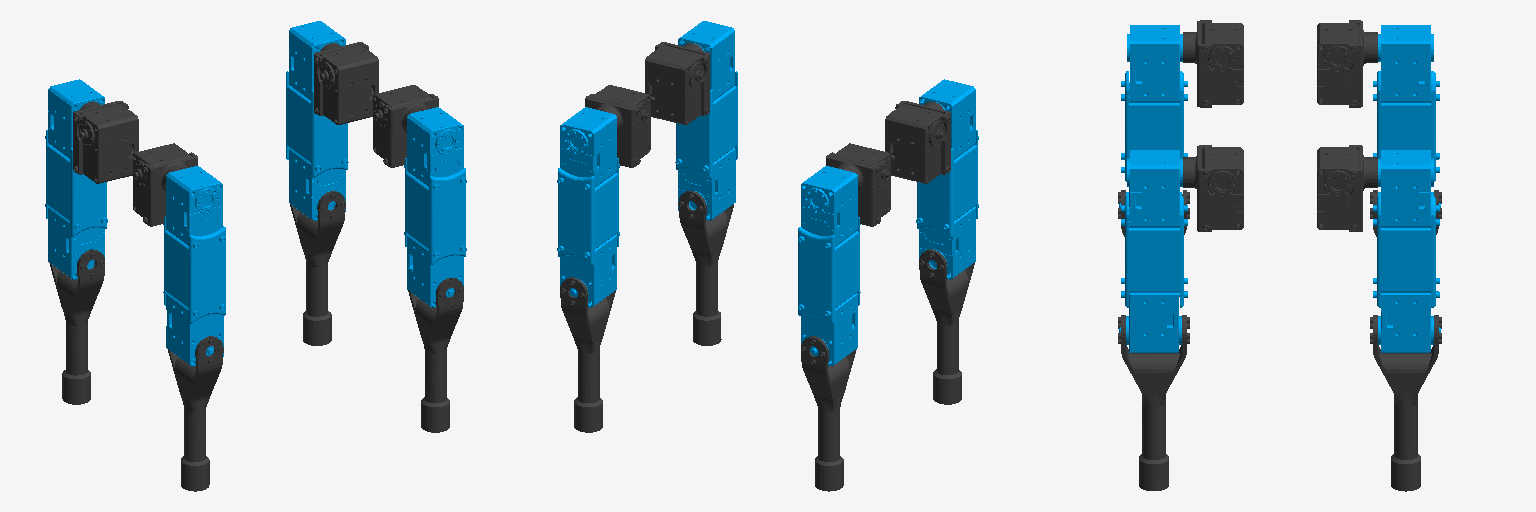
The robot description file, URDF, robot "spot_micro_urdf_v3_rotated_base":
<?xml version="1.0" encoding="utf-8"?>
<!-- This URDF was automatically created by SolidWorks to URDF Exporter! Originally created by [author] ([email redacted]) 
     Commit Version:   Build Version: 1.5.7479.33669
     For more information, please see http://wiki.ros.org/sw_urdf_exporter -->
<robot
  name="spot_micro_urdf_v3_rotated_base">
    <material name="blue">
    <color rgba="0. 0.7 1 1"/>
  </material>
  <material name="black">
    <color rgba="0.1 0.1 0.1 1"/>
  </material>
  <material name="grey">
    <color rgba="0.3 0.3 0.3 1"/>
  </material>
  <link
    name="base_link">
    <inertial>
      <origin
        xyz="0.016622 -0.00072045 0.0004418"
        rpy="0 0 0" />
      <mass
        value="0.9248" />
      <inertia
        ixx="0.00099241"
        ixy="-7.2183E-06"
        ixz="5.2376E-06"
        iyy="0.0011738"
        iyz="-6.544E-06"
        izz="0.00063265" />
    </inertial>
    <visual>
      <origin
        xyz="0 0 0"
        rpy="0 0 0" />
      <geometry>
        <mesh
          filename="package://spot_micro_urdf_v3_rotated_base/meshes/base_link.STL" />
      </geometry>
      <material
        name="blue">
      </material>
    </visual>
    <collision>
      <origin
        xyz="0 0 0"
        rpy="0 0 0" />
      <geometry>
        <mesh
          filename="package://spot_micro_urdf_v3_rotated_base/meshes/base_link.STL" />
      </geometry>
    </collision>
  </link>
  <link
    name="FL_hip_link">
    <inertial>
      <origin
        xyz="-0.023049 -0.011251 0.0030217"
        rpy="0 0 0" />
      <mass
        value="0.10229" />
      <inertia
        ixx="2.3388E-05"
        ixy="-3.7973E-08"
        ixz="-4.5621E-13"
        iyy="1.6266E-05"
        iyz="-3.6502E-07"
        izz="2.8445E-05" />
    </inertial>
    <visual>
      <origin
        xyz="0 0 0"
        rpy="0 0 0" />
      <geometry>
        <mesh
          filename="package://spot_micro_urdf_v3_rotated_base/meshes/FL_hip_link.STL" />
      </geometry>
      <material
        name="grey">
      </material>
    </visual>
    <collision>
      <origin
        xyz="0 0 0"
        rpy="0 0 0" />
      <geometry>
        <mesh
          filename="package://spot_micro_urdf_v3_rotated_base/meshes/FL_hip_link.STL" />
      </geometry>
    </collision>
  </link>
  <joint
    name="FL_hip_joint"
    type="revolute">
    <origin
      xyz="0.0766 0.039001 0.010875"
      rpy="1.5708 0 -3.1416" />
    <parent
      link="base_link" />
    <child
      link="FL_hip_link" />
    <axis
      xyz="-1 0 0" />
    <limit
      lower="-0.1745"
      upper="1.5708"
      effort="3"
      velocity="8" />
  </joint>
  <link
    name="FL_thigh_link">
    <inertial>
      <origin
        xyz="-0.0061957 -0.058673 0.023449"
        rpy="0 0 0" />
      <mass
        value="0.20833" />
      <inertia
        ixx="6.5328E-05"
        ixy="-2.5965E-06"
        ixz="7.6159E-09"
        iyy="4.1013E-05"
        iyz="7.2121E-08"
        izz="5.5965E-05" />
    </inertial>
    <visual>
      <origin
        xyz="0 0 0"
        rpy="0 0 0" />
      <geometry>
        <mesh
          filename="package://spot_micro_urdf_v3_rotated_base/meshes/FL_thigh_link.STL" />
      </geometry>
      <material
        name="blue">
      </material>
    </visual>
    <collision>
      <origin
        xyz="0 0 0"
        rpy="0 0 0" />
      <geometry>
        <mesh
          filename="package://spot_micro_urdf_v3_rotated_base/meshes/FL_thigh_link.STL" />
      </geometry>
    </collision>
  </link>
  <joint
    name="FL_thigh_joint"
    type="revolute">
    <origin
      xyz="-0.0234 0 0.0226"
      rpy="0 0 0.10521" />
    <parent
      link="FL_hip_link" />
    <child
      link="FL_thigh_link" />
    <axis
      xyz="0 0 1" />
    <limit
      lower="-1.5708"
      upper="1.5708"
      effort="3"
      velocity="8" />
  </joint>
  <link
    name="FL_calf_link">
    <inertial>
      <origin
        xyz="-0.0059573 -0.056415 0.023401"
        rpy="0 0 0" />
      <mass
        value="0.039633" />
      <inertia
        ixx="3.7201E-05"
        ixy="-3.5058E-06"
        ixz="-3.4162E-10"
        iyy="4.3723E-06"
        iyz="-3.0852E-09"
        izz="3.5395E-05" />
    </inertial>
    <visual>
      <origin
        xyz="0 0 0"
        rpy="0 0 0" />
      <geometry>
        <mesh
          filename="package://spot_micro_urdf_v3_rotated_base/meshes/FL_calf_link.STL" />
      </geometry>
      <material
        name="grey">
      </material>
    </visual>
    <collision>
      <origin
        xyz="0 0 0"
        rpy="0 0 0" />
      <geometry>
        <mesh
          filename="package://spot_micro_urdf_v3_rotated_base/meshes/FL_calf_link.STL" />
      </geometry>
    </collision>
  </link>
  <joint
    name="FL_calf_joint"
    type="revolute">
    <origin
      xyz="-0.012392 -0.11735 0"
      rpy="0 0 0" />
    <parent
      link="FL_thigh_link" />
    <child
      link="FL_calf_link" />
    <axis
      xyz="0 0 1" />
    <limit
      lower="-1.5708"
      upper="1.5708"
      effort="3"
      velocity="8" />
  </joint>
  <link
    name="RL_hip_link">
    <inertial>
      <origin
        xyz="0.022101 -0.011251 0.0030217"
        rpy="0 0 0" />
      <mass
        value="0.10229" />
      <inertia
        ixx="2.3388E-05"
        ixy="-3.7973E-08"
        ixz="-4.5621E-13"
        iyy="1.6266E-05"
        iyz="-3.6502E-07"
        izz="2.8445E-05" />
    </inertial>
    <visual>
      <origin
        xyz="0 0 0"
        rpy="0 0 0" />
      <geometry>
        <mesh
          filename="package://spot_micro_urdf_v3_rotated_base/meshes/RL_hip_link.STL" />
      </geometry>
      <material
        name="grey">
      </material>
    </visual>
    <collision>
      <origin
        xyz="0 0 0"
        rpy="0 0 0" />
      <geometry>
        <mesh
          filename="package://spot_micro_urdf_v3_rotated_base/meshes/RL_hip_link.STL" />
      </geometry>
    </collision>
  </link>
  <joint
    name="RL_hip_joint"
    type="revolute">
    <origin
      xyz="-0.07825 0.039001 0.010875"
      rpy="1.5708 0 -3.1416" />
    <parent
      link="base_link" />
    <child
      link="RL_hip_link" />
    <axis
      xyz="-1 0 0" />
    <limit
      lower="-0.1745"
      upper="1.5708"
      effort="3"
      velocity="8" />
  </joint>
  <link
    name="RL_thigh_link">
    <inertial>
      <origin
        xyz="-0.0061957 -0.058673 0.023449"
        rpy="0 0 0" />
      <mass
        value="0.20833" />
      <inertia
        ixx="6.5328E-05"
        ixy="-2.5965E-06"
        ixz="7.6159E-09"
        iyy="4.1013E-05"
        iyz="7.2121E-08"
        izz="5.5965E-05" />
    </inertial>
    <visual>
      <origin
        xyz="0 0 0"
        rpy="0 0 0" />
      <geometry>
        <mesh
          filename="package://spot_micro_urdf_v3_rotated_base/meshes/RL_thigh_link.STL" />
      </geometry>
      <material
        name="blue">
      </material>
    </visual>
    <collision>
      <origin
        xyz="0 0 0"
        rpy="0 0 0" />
      <geometry>
        <mesh
          filename="package://spot_micro_urdf_v3_rotated_base/meshes/RL_thigh_link.STL" />
      </geometry>
    </collision>
  </link>
  <joint
    name="RL_thigh_joint"
    type="revolute">
    <origin
      xyz="0.02175 0 0.0226"
      rpy="0 0 0.10521" />
    <parent
      link="RL_hip_link" />
    <child
      link="RL_thigh_link" />
    <axis
      xyz="0 0 1" />
    <limit
      lower="-1.5708"
      upper="1.5708"
      effort="3"
      velocity="8" />
  </joint>
  <link
    name="RL_calf_link">
    <inertial>
      <origin
        xyz="-0.0059573 -0.056415 0.023401"
        rpy="0 0 0" />
      <mass
        value="0.039633" />
      <inertia
        ixx="3.7201E-05"
        ixy="-3.5058E-06"
        ixz="-3.4162E-10"
        iyy="4.3723E-06"
        iyz="-3.0852E-09"
        izz="3.5395E-05" />
    </inertial>
    <visual>
      <origin
        xyz="0 0 0"
        rpy="0 0 0" />
      <geometry>
        <mesh
          filename="package://spot_micro_urdf_v3_rotated_base/meshes/RL_calf_link.STL" />
      </geometry>
      <material
        name="grey">
      </material>
    </visual>
    <collision>
      <origin
        xyz="0 0 0"
        rpy="0 0 0" />
      <geometry>
        <mesh
          filename="package://spot_micro_urdf_v3_rotated_base/meshes/RL_calf_link.STL" />
      </geometry>
    </collision>
  </link>
  <joint
    name="RL_calf_joint"
    type="revolute">
    <origin
      xyz="-0.012392 -0.11735 0"
      rpy="0 0 0" />
    <parent
      link="RL_thigh_link" />
    <child
      link="RL_calf_link" />
    <axis
      xyz="0 0 1" />
    <limit
      lower="-1.5708"
      upper="1.5708"
      effort="3"
      velocity="8" />
  </joint>
  <link
    name="RR_hip_link">
    <inertial>
      <origin
        xyz="-0.022101 -0.011263 0.0029782"
        rpy="0 0 0" />
      <mass
        value="0.10229" />
      <inertia
        ixx="2.3388E-05"
        ixy="3.7964E-08"
        ixz="1.4601E-10"
        iyy="1.6269E-05"
        iyz="-4.12E-07"
        izz="2.8442E-05" />
    </inertial>
    <visual>
      <origin
        xyz="0 0 0"
        rpy="0 0 0" />
      <geometry>
        <mesh
          filename="package://spot_micro_urdf_v3_rotated_base/meshes/RR_hip_link.STL" />
      </geometry>
      <material
        name="grey">
      </material>
    </visual>
    <collision>
      <origin
        xyz="0 0 0"
        rpy="0 0 0" />
      <geometry>
        <mesh
          filename="package://spot_micro_urdf_v3_rotated_base/meshes/RR_hip_link.STL" />
      </geometry>
    </collision>
  </link>
  <joint
    name="RR_hip_joint"
    type="revolute">
    <origin
      xyz="-0.07825 -0.03901 0.010875"
      rpy="1.5669 0 0" />
    <parent
      link="base_link" />
    <child
      link="RR_hip_link" />
    <axis
      xyz="1 0 0" />
    <limit
      lower="-1.5708"
      upper="0.1745"
      effort="3"
      velocity="8" />
  </joint>
  <link
    name="RR_thigh_link">
    <inertial>
      <origin
        xyz="9.8993E-10 -0.05909 0.023473"
        rpy="0 0 0" />
      <mass
        value="0.20833" />
      <inertia
        ixx="6.5602E-05"
        ixy="3.9386E-13"
        ixz="-2.0136E-14"
        iyy="4.0739E-05"
        iyz="1.3777E-08"
        izz="5.5965E-05" />
    </inertial>
    <visual>
      <origin
        xyz="0 0 0"
        rpy="0 0 0" />
      <geometry>
        <mesh
          filename="package://spot_micro_urdf_v3_rotated_base/meshes/RR_thigh_link.STL" />
      </geometry>
      <material
        name="blue">
      </material>
    </visual>
    <collision>
      <origin
        xyz="0 0 0"
        rpy="0 0 0" />
      <geometry>
        <mesh
          filename="package://spot_micro_urdf_v3_rotated_base/meshes/RR_thigh_link.STL" />
      </geometry>
    </collision>
  </link>
  <joint
    name="RR_thigh_joint"
    type="revolute">
    <origin
      xyz="-0.02175 -8.6996E-05 0.022548"
      rpy="0 0 0" />
    <parent
      link="RR_hip_link" />
    <child
      link="RR_thigh_link" />
    <axis
      xyz="0 0.0038582 -0.99999" />
    <limit
      lower="-1.5708"
      upper="1.5708"
      effort="3"
      velocity="8" />
  </joint>
  <link
    name="RR_calf_link">
    <inertial>
      <origin
        xyz="-0.0059573 -0.056415 -0.02395"
        rpy="0 0 0" />
      <mass
        value="0.039633" />
      <inertia
        ixx="3.7201E-05"
        ixy="-3.5058E-06"
        ixz="-3.4162E-10"
        iyy="4.3723E-06"
        iyz="-3.0852E-09"
        izz="3.5395E-05" />
    </inertial>
    <visual>
      <origin
        xyz="0 0 0"
        rpy="0 0 0" />
      <geometry>
        <mesh
          filename="package://spot_micro_urdf_v3_rotated_base/meshes/RR_calf_link.STL" />
      </geometry>
      <material
        name="grey">
      </material>
    </visual>
    <collision>
      <origin
        xyz="0 0 0"
        rpy="0 0 0" />
      <geometry>
        <mesh
          filename="package://spot_micro_urdf_v3_rotated_base/meshes/RR_calf_link.STL" />
      </geometry>
    </collision>
  </link>
  <joint
    name="RR_calf_joint"
    type="revolute">
    <origin
      xyz="0 -0.118 -0.00045526"
      rpy="3.1378 -0.00040516 3.0364" />
    <parent
      link="RR_thigh_link" />
    <child
      link="RR_calf_link" />
    <axis
      xyz="0 0 1" />
    <limit
      lower="-1.5708"
      upper="1.5708"
      effort="3"
      velocity="8" />
  </joint>
  <link
    name="FR_hip_link">
    <inertial>
      <origin
        xyz="0.023049 -0.011263 0.0029782"
        rpy="0 0 0" />
      <mass
        value="0.10229" />
      <inertia
        ixx="2.3388E-05"
        ixy="3.7964E-08"
        ixz="1.4601E-10"
        iyy="1.6269E-05"
        iyz="-4.12E-07"
        izz="2.8442E-05" />
    </inertial>
    <visual>
      <origin
        xyz="0 0 0"
        rpy="0 0 0" />
      <geometry>
        <mesh
          filename="package://spot_micro_urdf_v3_rotated_base/meshes/FR_hip_link.STL" />
      </geometry>
      <material
        name="grey">
      </material>
    </visual>
    <collision>
      <origin
        xyz="0 0 0"
        rpy="0 0 0" />
      <geometry>
        <mesh
          filename="package://spot_micro_urdf_v3_rotated_base/meshes/FR_hip_link.STL" />
      </geometry>
    </collision>
  </link>
  <joint
    name="FR_hip_joint"
    type="revolute">
    <origin
      xyz="0.0766 -0.039021 0.010875"
      rpy="1.5669 0 0" />
    <parent
      link="base_link" />
    <child
      link="FR_hip_link" />
    <axis
      xyz="1 0 0" />
    <limit
      lower="-1.5708"
      upper="0.1745"
      effort="3"
      velocity="8" />
  </joint>
  <link
    name="FR_thigh_link">
    <inertial>
      <origin
        xyz="9.8993E-10 -0.05909 0.023473"
        rpy="0 0 0" />
      <mass
        value="0.20833" />
      <inertia
        ixx="6.5602E-05"
        ixy="3.9386E-13"
        ixz="-2.0136E-14"
        iyy="4.0739E-05"
        iyz="1.3777E-08"
        izz="5.5965E-05" />
    </inertial>
    <visual>
      <origin
        xyz="0 0 0"
        rpy="0 0 0" />
      <geometry>
        <mesh
          filename="package://spot_micro_urdf_v3_rotated_base/meshes/FR_thigh_link.STL" />
      </geometry>
      <material
        name="blue">
      </material>
    </visual>
    <collision>
      <origin
        xyz="0 0 0"
        rpy="0 0 0" />
      <geometry>
        <mesh
          filename="package://spot_micro_urdf_v3_rotated_base/meshes/FR_thigh_link.STL" />
      </geometry>
    </collision>
  </link>
  <joint
    name="FR_thigh_joint"
    type="revolute">
    <origin
      xyz="0.0234 -8.6996E-05 0.022548"
      rpy="0 0 0" />
    <parent
      link="FR_hip_link" />
    <child
      link="FR_thigh_link" />
    <axis
      xyz="0 0.0038582 -0.99999" />
    <limit
      lower="-1.5708"
      upper="1.5708"
      effort="3"
      velocity="8" />
  </joint>
  <link
    name="FR_calf_link">
    <inertial>
      <origin
        xyz="-0.0059573 -0.056415 -0.02395"
        rpy="0 0 0" />
      <mass
        value="0.039633" />
      <inertia
        ixx="3.7201E-05"
        ixy="-3.5058E-06"
        ixz="-3.4162E-10"
        iyy="4.3723E-06"
        iyz="-3.0852E-09"
        izz="3.5395E-05" />
    </inertial>
    <visual>
      <origin
        xyz="0 0 0"
        rpy="0 0 0" />
      <geometry>
        <mesh
          filename="package://spot_micro_urdf_v3_rotated_base/meshes/FR_calf_link.STL" />
      </geometry>
      <material
        name="grey">
      </material>
    </visual>
    <collision>
      <origin
        xyz="0 0 0"
        rpy="0 0 0" />
      <geometry>
        <mesh
          filename="package://spot_micro_urdf_v3_rotated_base/meshes/FR_calf_link.STL" />
      </geometry>
    </collision>
  </link>
  <joint
    name="FR_calf_joint"
    type="revolute">
    <origin
      xyz="0 -0.118 -0.00045526"
      rpy="3.1378 -0.00040516 3.0364" />
    <parent
      link="FR_thigh_link" />
    <child
      link="FR_calf_link" />
    <axis
      xyz="0 0 1" />
    <limit
      lower="-1.5708"
      upper="1.5708"
      effort="3"
      velocity="8" />
  </joint>
</robot>

--- Facts derived from the render (not from the file) ---
3 views of the same robot in one strip: view 1: azimuth 30°, elevation 25°; view 2: azimuth 150°, elevation 25°; view 3: azimuth 270°, elevation 25° (orthographic).
Model spot_micro_urdf_v3_rotated_base with 13 links and 12 joints (12 revolute), rooted at base_link, posed all joints at 0.
Visible links, largest first — view 1: RR_thigh_link, FR_thigh_link, FL_thigh_link, RL_thigh_link, RL_hip_link, FL_hip_link, RL_calf_link, FL_calf_link, FR_calf_link, RR_calf_link, FR_hip_link, RR_hip_link; view 2: RL_thigh_link, FL_thigh_link, FR_thigh_link, RR_thigh_link, RR_hip_link, FR_hip_link, RR_calf_link, FL_calf_link, RL_calf_link, FR_calf_link, FL_hip_link, RL_hip_link; view 3: FL_thigh_link, FR_thigh_link, RR_thigh_link, RL_thigh_link, FL_calf_link, FR_calf_link, FR_hip_link, RR_hip_link, FL_hip_link, RL_hip_link.
Boxes of the visible links, x1,y1,x2,y2 form: RR_thigh_link: (163,166,225,366); FR_thigh_link: (404,107,466,307); FL_thigh_link: (286,21,348,220); RL_thigh_link: (45,79,107,279); RL_hip_link: (73,101,138,183); FL_hip_link: (314,42,378,124); RL_calf_link: (49,249,104,404); FL_calf_link: (290,191,345,345); FR_calf_link: (408,277,463,432); RR_calf_link: (168,336,223,491); FR_hip_link: (373,85,438,167); RR_hip_link: (133,143,197,226); RL_thigh_link: (798,166,860,366); FL_thigh_link: (557,107,619,307); FR_thigh_link: (675,21,737,220); RR_thigh_link: (916,79,978,279); RR_hip_link: (885,101,950,183); FR_hip_link: (645,42,709,124); RR_calf_link: (919,249,974,404); FL_calf_link: (560,277,615,432); RL_calf_link: (801,336,856,491); FR_calf_link: (678,191,733,345); FL_hip_link: (585,85,650,167); RL_hip_link: (826,143,890,226); FL_thigh_link: (1373,150,1440,352); FR_thigh_link: (1119,150,1187,352); RR_thigh_link: (1119,25,1187,207); RL_thigh_link: (1373,25,1440,207); FL_calf_link: (1370,315,1441,491); FR_calf_link: (1118,315,1189,490); FR_hip_link: (1183,145,1243,231); RR_hip_link: (1183,20,1243,107); FL_hip_link: (1317,145,1377,231); RL_hip_link: (1317,20,1377,107).
Size in the robot's own frame: 0.2452 by 0.219 by 0.2473 metres.
12 mesh visuals loaded from 13 distinct referenced files (12 binary STL); not drawn: 1 (reference not matched to a file when rendering).